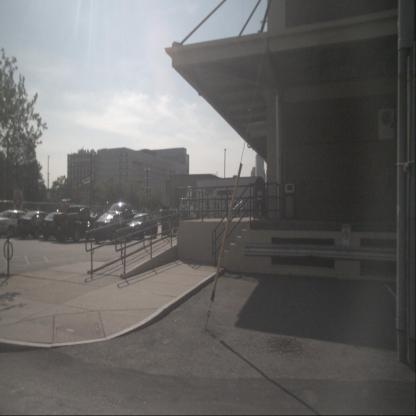vehicle-car: (92, 210, 132, 243), (17, 211, 54, 239), (42, 211, 74, 241), (127, 213, 158, 240), (104, 201, 132, 228), (0, 210, 25, 238), (7, 211, 27, 239)
vehicle-truck: (53, 205, 103, 242), (177, 184, 195, 232)
